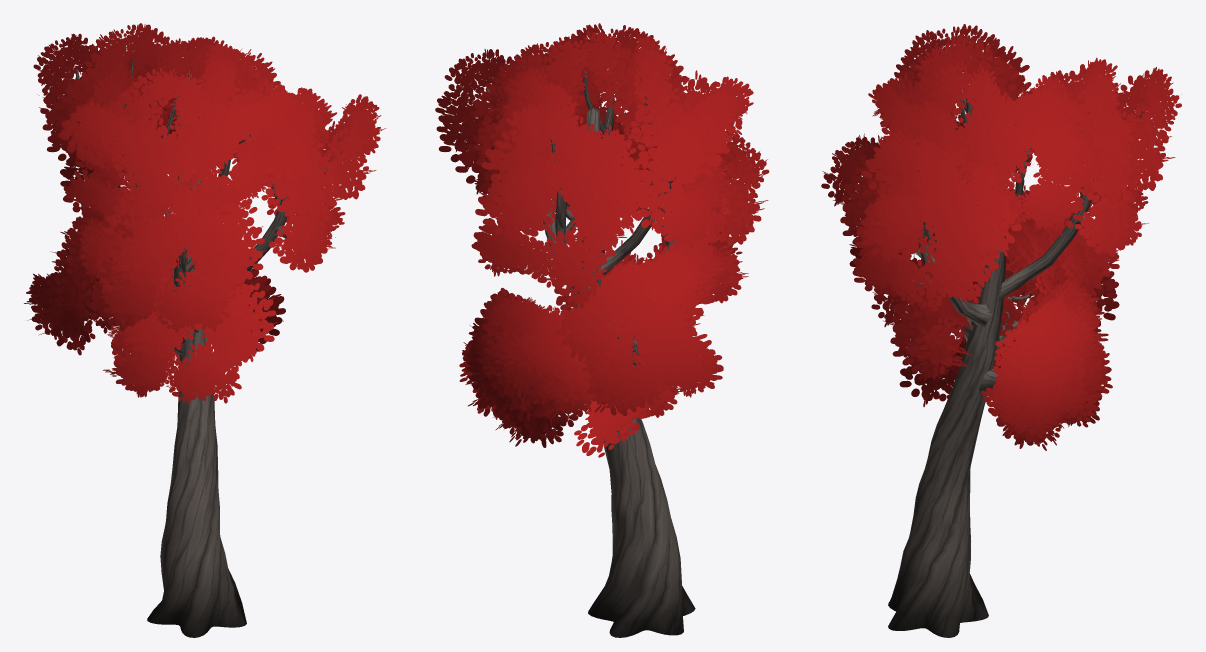
The model's file is TwistedTree_5.glb.
3 renders of one model, left to right at view 1: azimuth 30°, elevation 25°; view 2: azimuth 150°, elevation 25°; view 3: azimuth 270°, elevation 25°, orthographic. The views are drawn at different scales.
Visible parts, largest first — view 1: TwistedTree_5; view 2: TwistedTree_5; view 3: TwistedTree_5.
Boxes of the visible parts, box(x1,y1,x2,y2) form: TwistedTree_5: box(24, 23, 386, 637); TwistedTree_5: box(435, 23, 769, 637); TwistedTree_5: box(821, 24, 1181, 637).
Bounding box in the file's own units: 9.49 × 15.66 × 9.39.
2 materials, 2 textured.
